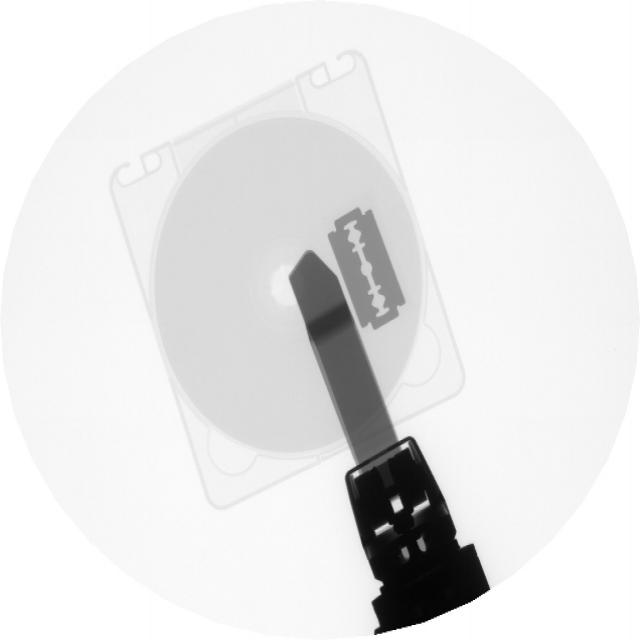BLADE: (321, 196, 416, 342)
